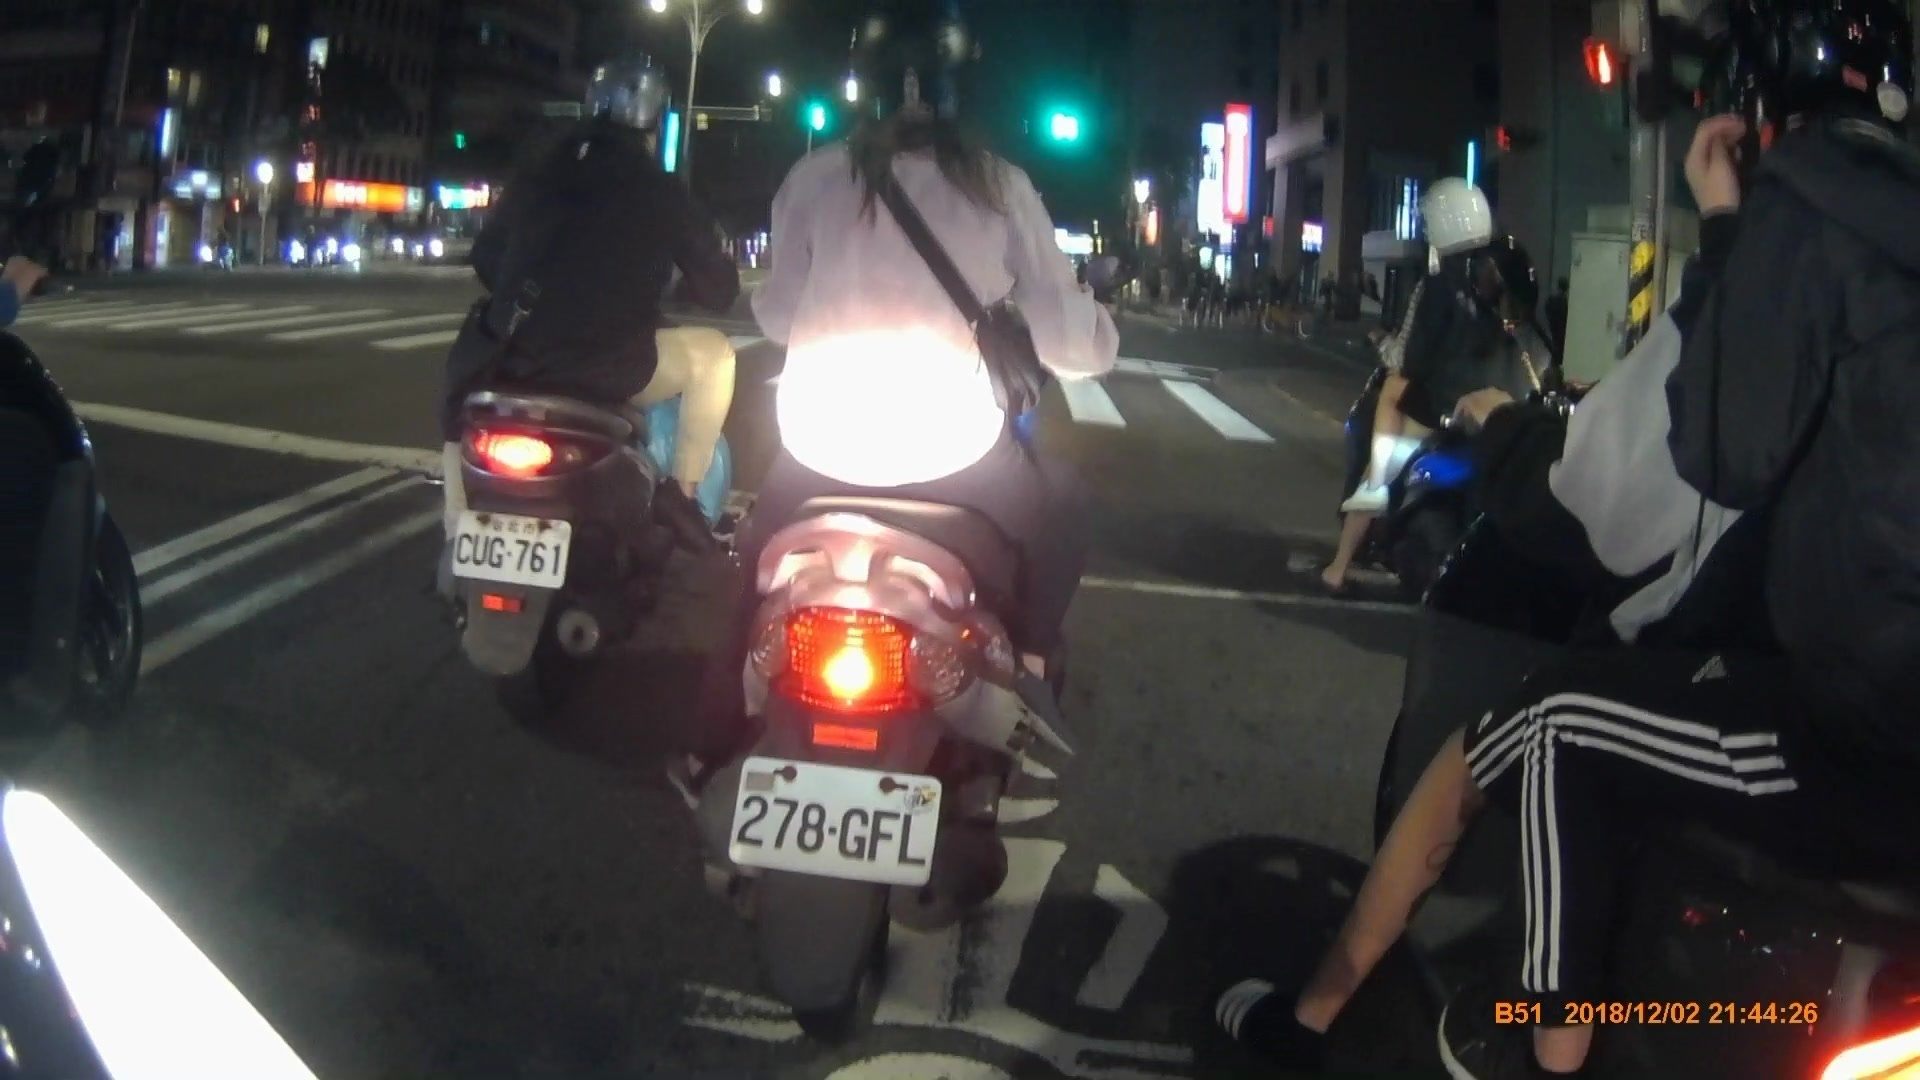License_plate: (736, 754, 939, 888), (452, 508, 571, 592)
